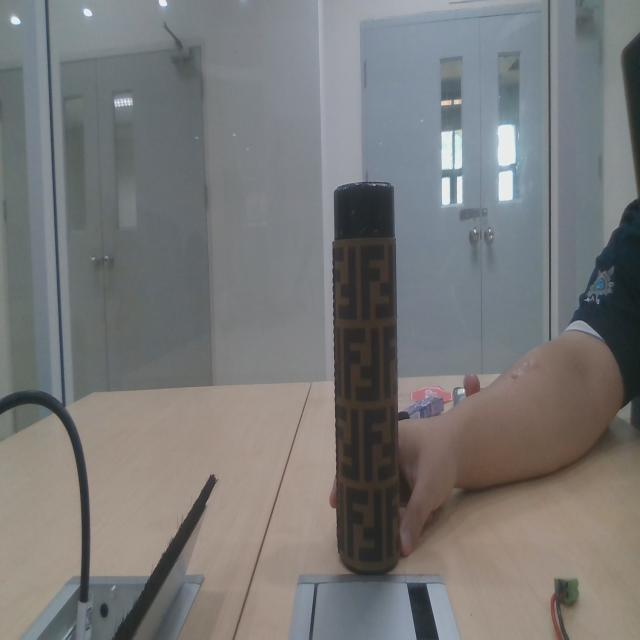Pole: (324, 165, 411, 588)
